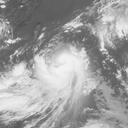cyclone: (35, 46, 89, 97)
